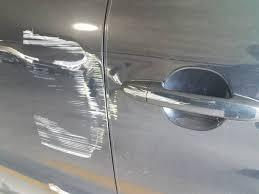scratch: (0, 26, 198, 164)
